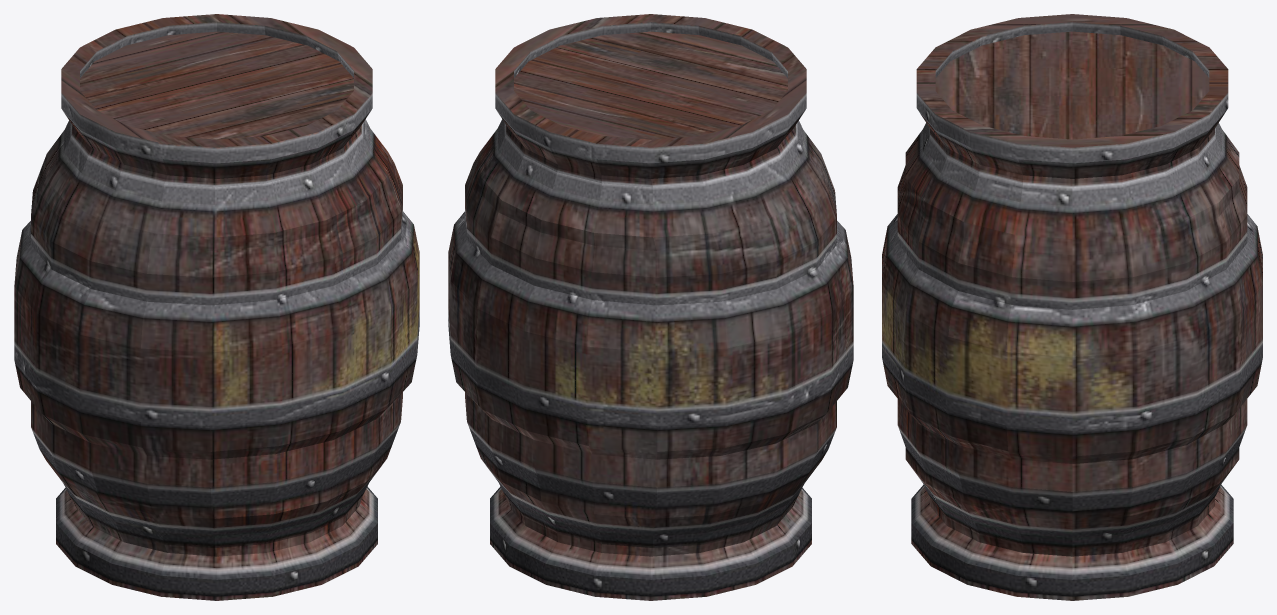
File: barrel.FBX
The picture shows the model from 3 angles, left to right: view 1: azimuth 30°, elevation 25°; view 2: azimuth 150°, elevation 25°; view 3: azimuth 270°, elevation 25°; orthographic projection.
Parts seen in each view (by area): view 1: Cylinder001; view 2: Cylinder001; view 3: Cylinder001.
Boxes of the visible parts, x1,y1,x2,y2 form: Cylinder001: (14,14,419,600); Cylinder001: (448,14,853,600); Cylinder001: (882,14,1262,600).
Size of the model in its own units: 34.86 by 41.62 by 31.84.
2 materials, 2 textured.
